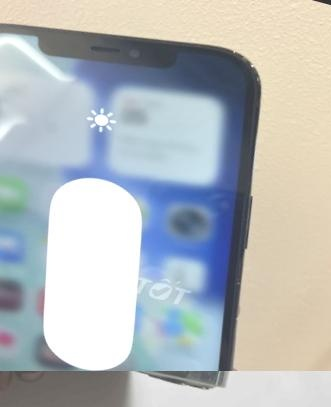scratch: (42, 371, 243, 405)
